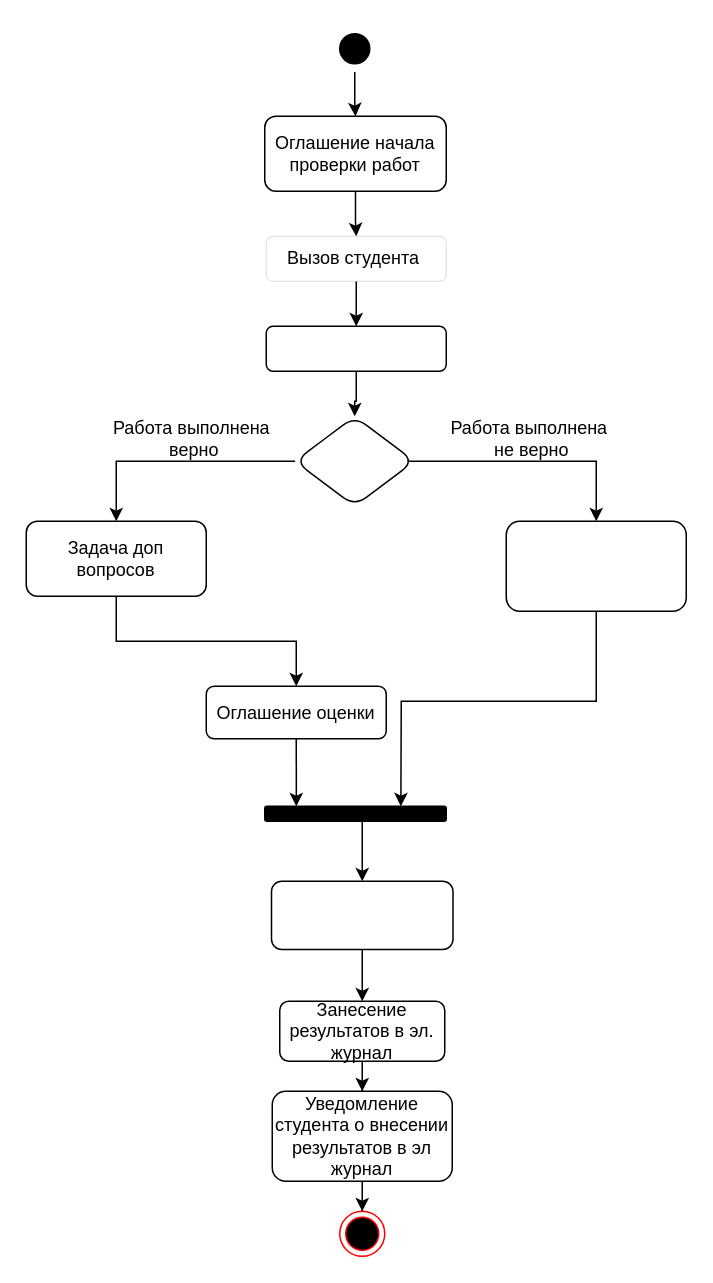
The diagram is 713 pixels wide and 1283 high, and some of its shapes have lost their labels. Here are the shapes that lost their labels. From the top down, the box of each, then its label:
(265, 325, 446, 371): Проверка работы
(505, 520, 686, 611): Отправка студента на пересдачу
(270, 880, 453, 950): Объявление завершения проверки
